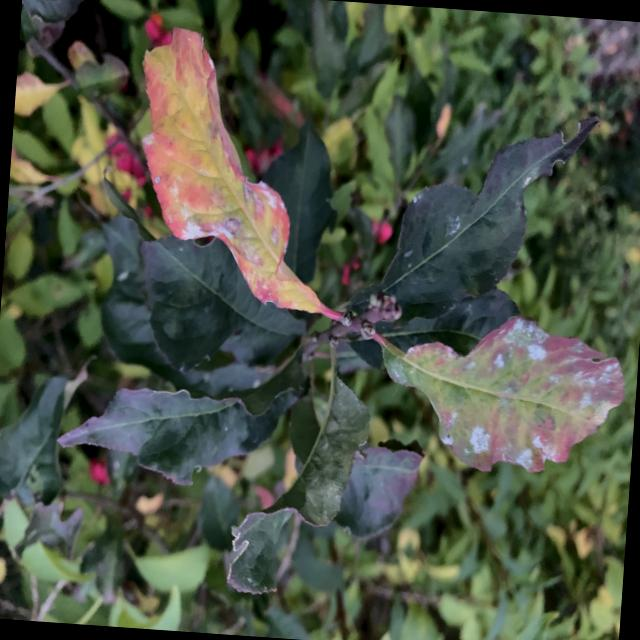powdery_mildew: (143, 28, 340, 319), (382, 317, 623, 471)
